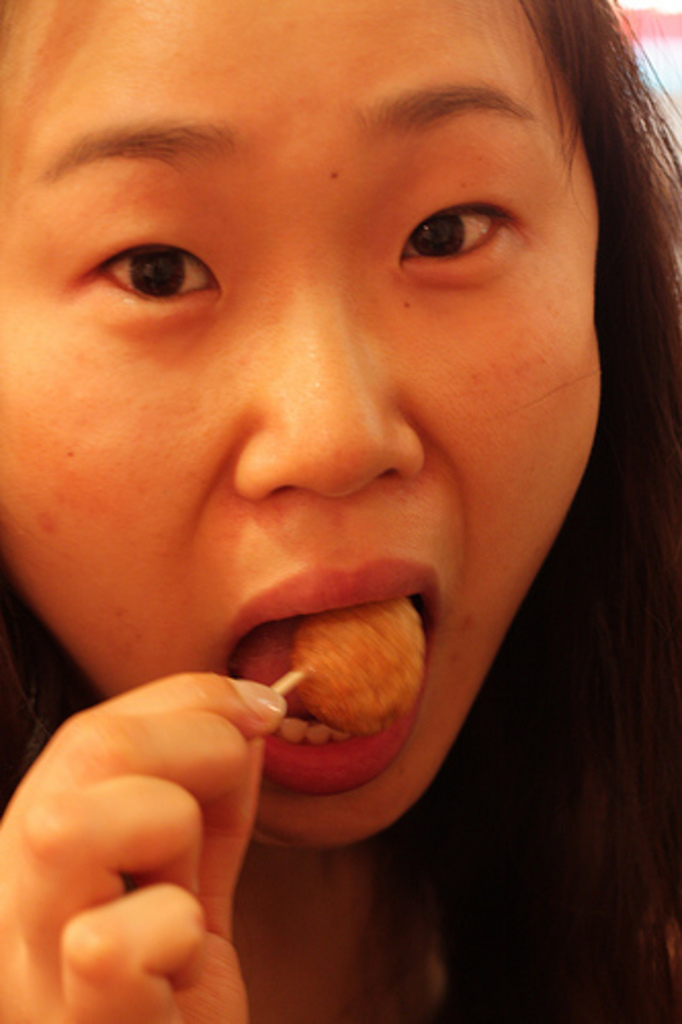Human_hand: (0, 672, 287, 1024)
